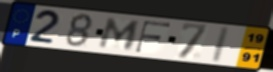2: (26, 8, 64, 48)
7: (179, 21, 211, 61)
8: (64, 13, 95, 48)
F: (133, 20, 173, 54)
I: (208, 25, 232, 64)
M: (96, 16, 143, 51)
